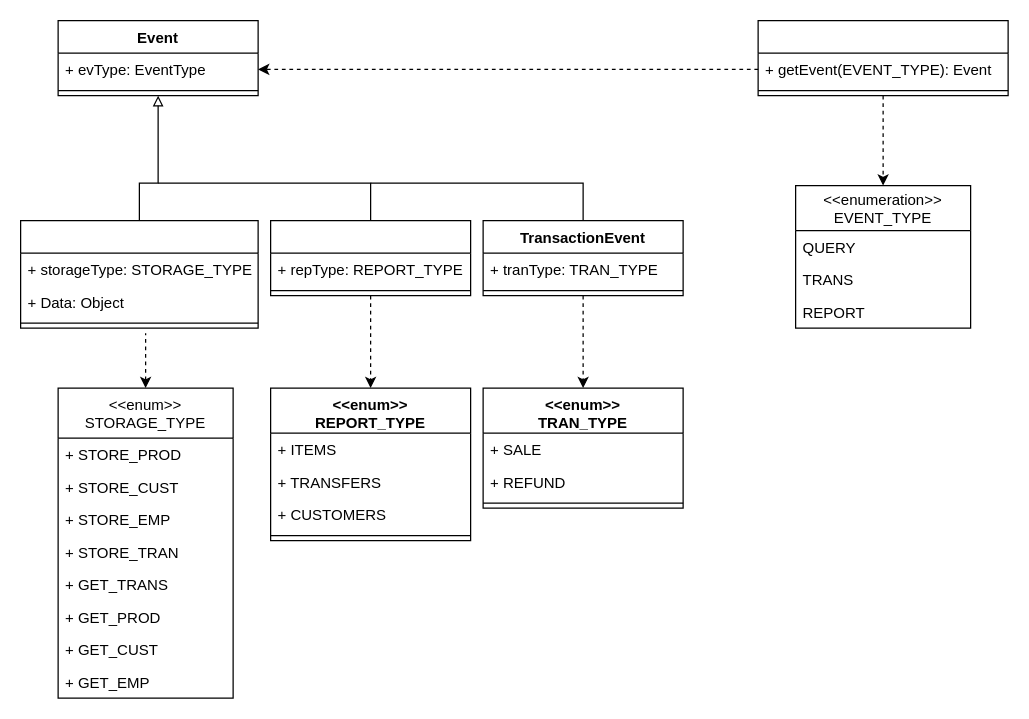
The diagram is 1029 pixels wide and 719 high, and some of its shapes have lost their labels. Here are the shapes that lost their labels. From the top down, the box of each, then its label:
(757, 19, 1008, 96): EventFactory
(19, 219, 258, 328): StorageEvent
(269, 219, 471, 296): ReportEvent
